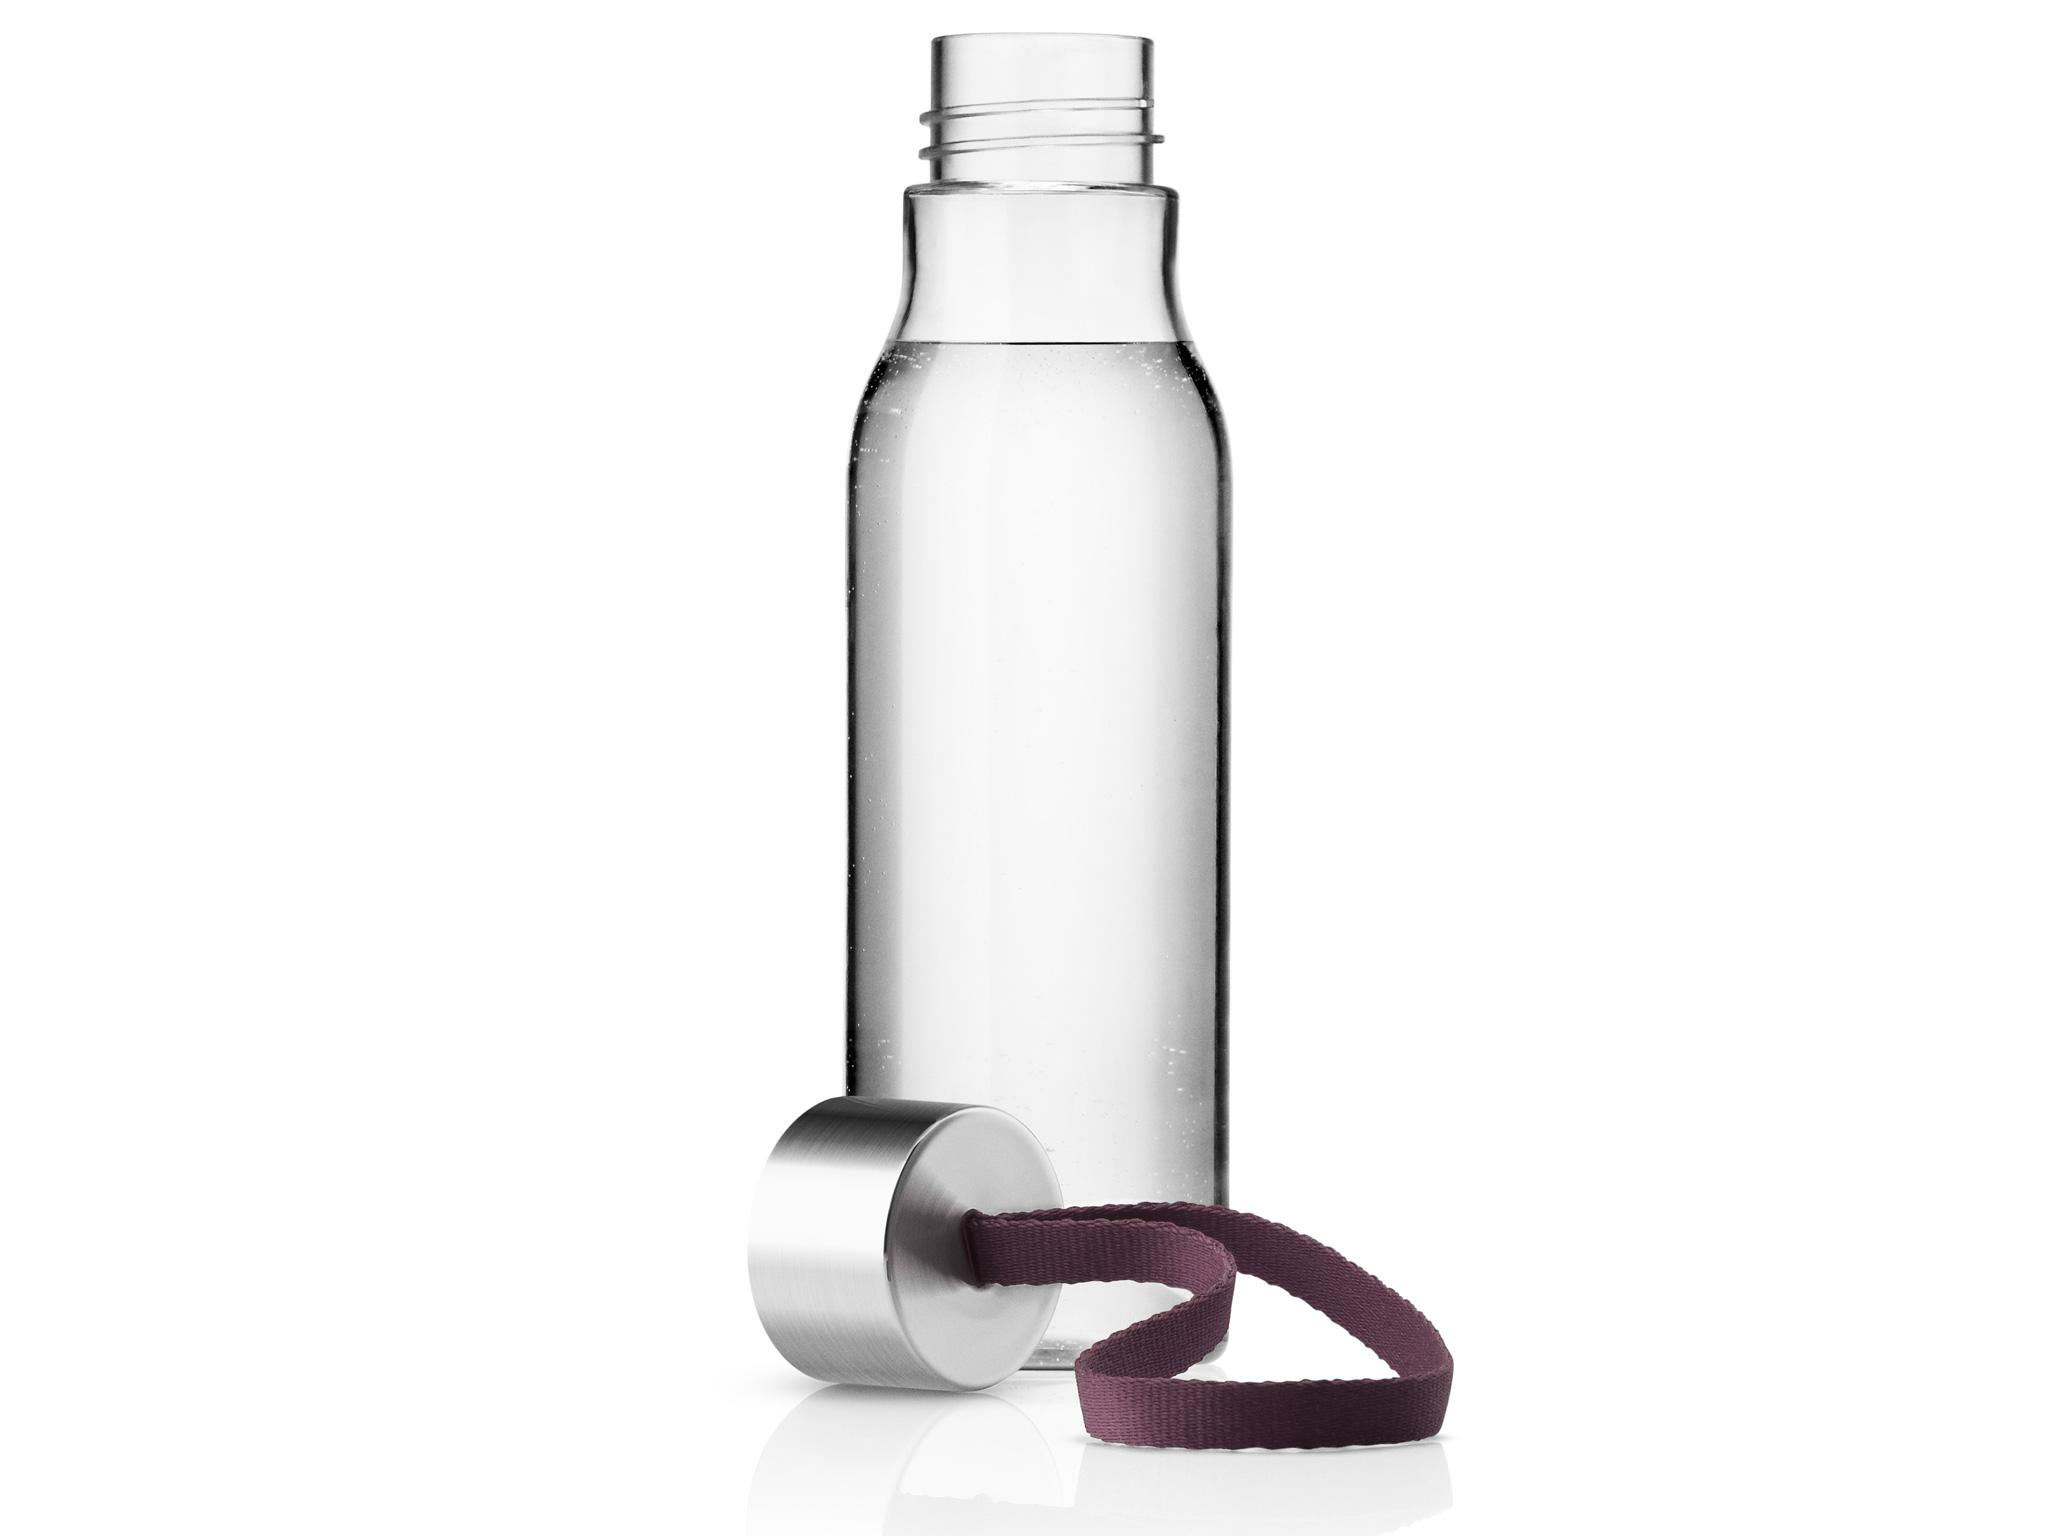glass of water: (924, 105, 1213, 1142)
